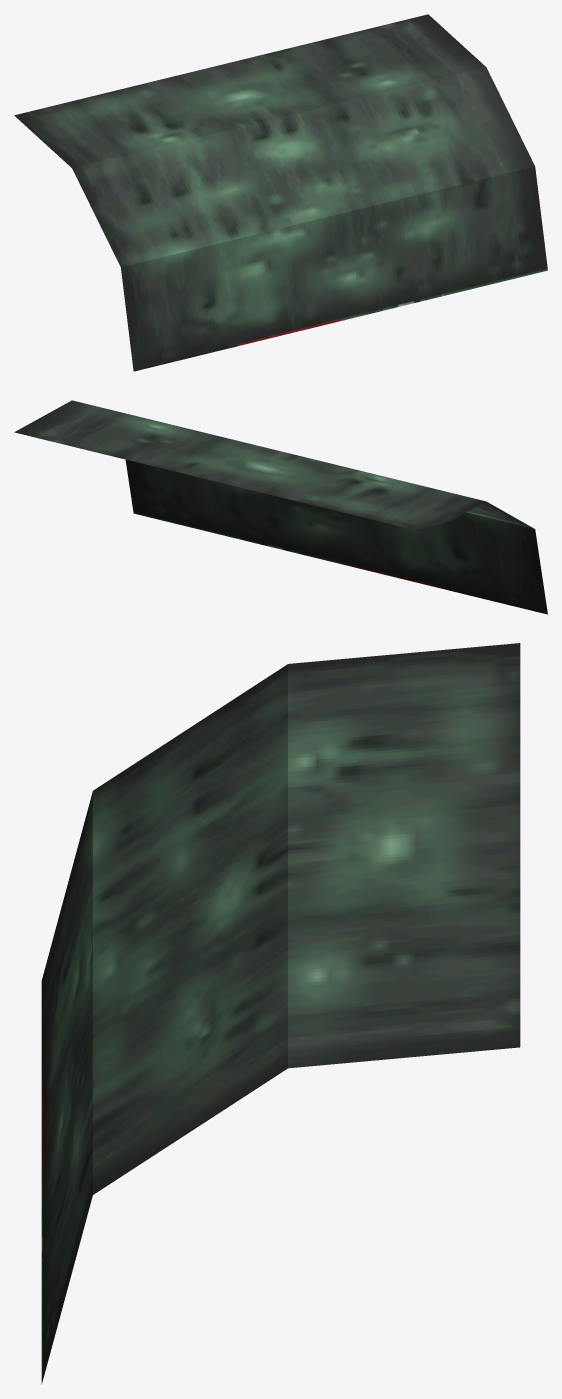
File: Dach_HalbtonneBreit [Türkis]_123.glb
3 views of the same model, one above another, from view 1: azimuth 30°, elevation 25°; view 2: azimuth 150°, elevation 25°; view 3: azimuth 270°, elevation 25° (orthographic). The views are drawn at different scales.
Visible parts, largest first — view 1: polySurfaceShape1072; view 2: polySurfaceShape1072; view 3: polySurfaceShape1072.
Boxes of the visible parts, left/top/right/bottom form: polySurfaceShape1072: left=14, top=14, right=547, bottom=371; polySurfaceShape1072: left=14, top=400, right=547, bottom=614; polySurfaceShape1072: left=41, top=643, right=520, bottom=1384.
Size of the model in its own units: 1 by 0.3891 by 0.5.
1 material, 1 textured.
